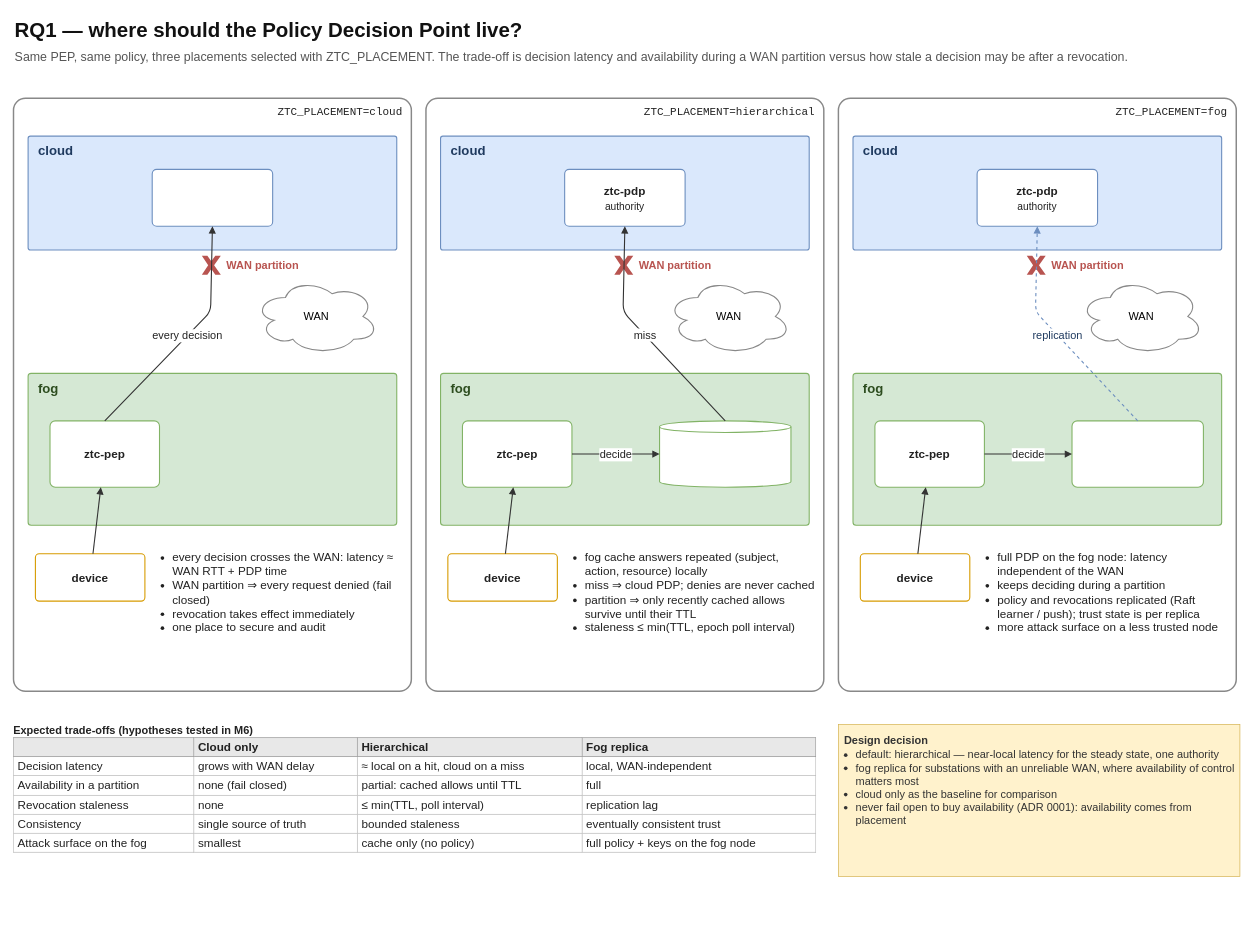
This 1253x926 diagram has some shape labels left out. Each missing label, with the box of its shape:
Cloud only: (12, 97, 412, 692)
decision cache TTL + epochs: (659, 420, 791, 487)
Fog replica: (837, 97, 1237, 692)
Hierarchical (default): (425, 97, 824, 692)
ztc-pdp: (151, 168, 273, 227)
ztc-pdp replica policy + revocations: (1071, 420, 1204, 487)
